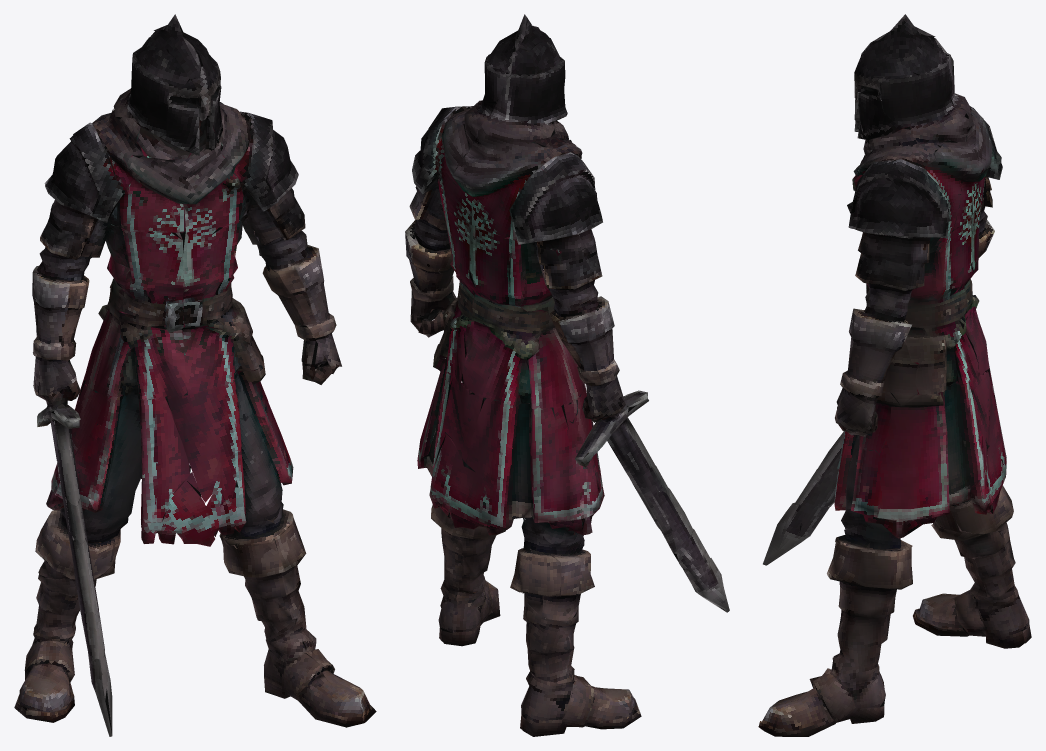
File: tripo_garde_epee.glb
3 renders of one model, left to right at view 1: azimuth 30°, elevation 25°; view 2: azimuth 150°, elevation 25°; view 3: azimuth 270°, elevation 25°, orthographic. The views are drawn at different scales.
Parts seen in each view (by area): view 1: tripo_garde_epee; view 2: tripo_garde_epee; view 3: tripo_garde_epee.
Part boxes in pixels (<box>): tripo_garde_epee: <box>14,14,376,736</box>; tripo_garde_epee: <box>405,14,729,736</box>; tripo_garde_epee: <box>758,14,1031,736</box>.
Size of the model in its own units: 0.8181 by 1.92 by 0.7164.
1 material, 1 textured.
